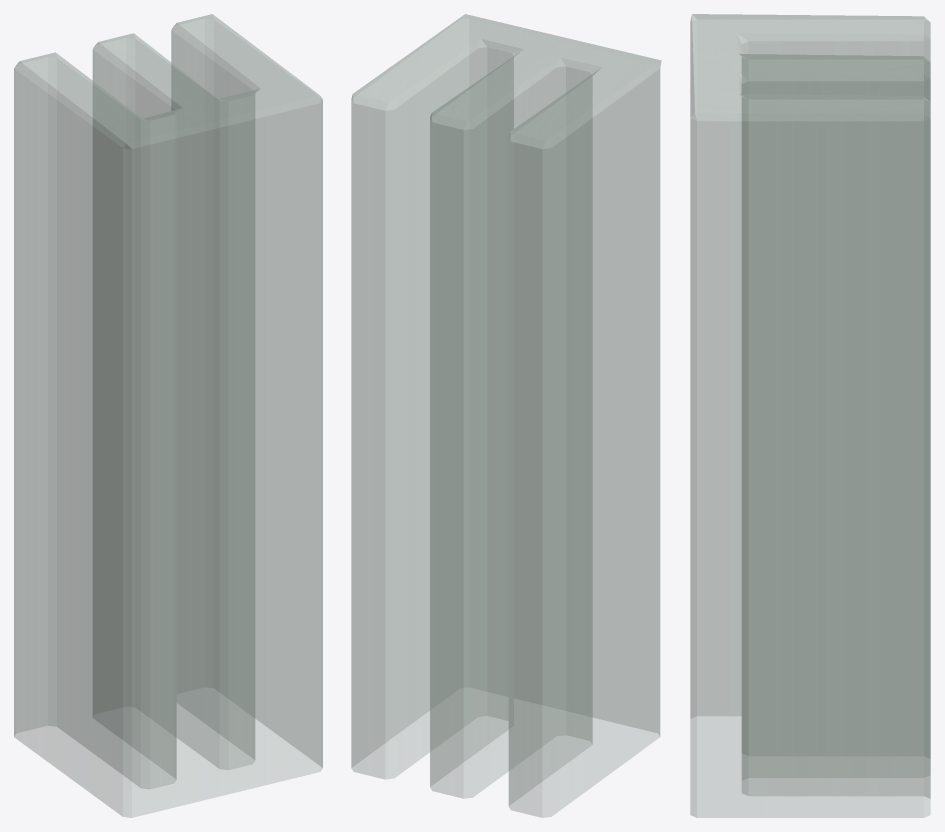
3 renders of one model, left to right at view 1: azimuth 30°, elevation 25°; view 2: azimuth 150°, elevation 25°; view 3: azimuth 270°, elevation 25°, orthographic. The views are drawn at different scales.
Visible parts, largest first — view 1: W; view 2: W; view 3: W.
Boxes of the visible parts, x1,y1,x2,y2 form: W: (14, 14, 322, 817); W: (351, 14, 661, 817); W: (690, 14, 930, 817).
Size of the model in its own units: 0.6019 by 1.94 by 0.6019.
Materials: 1 (1 with a texture image).
